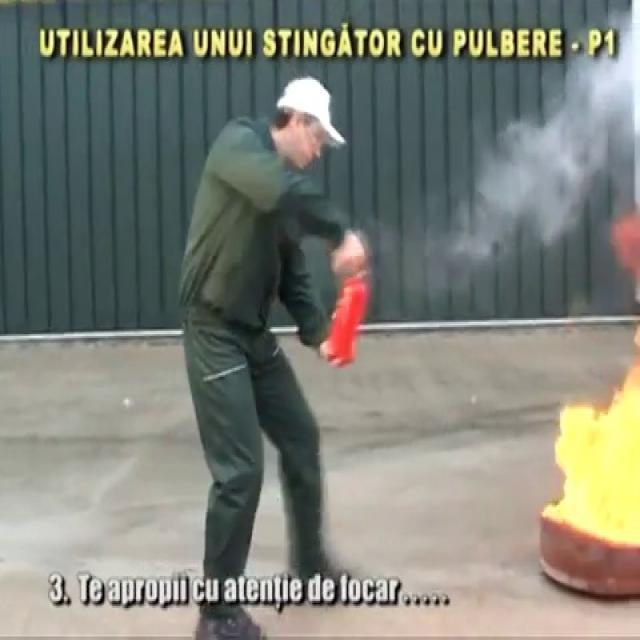Fire: (550, 345, 640, 548)
Smoke: (470, 0, 640, 276)
